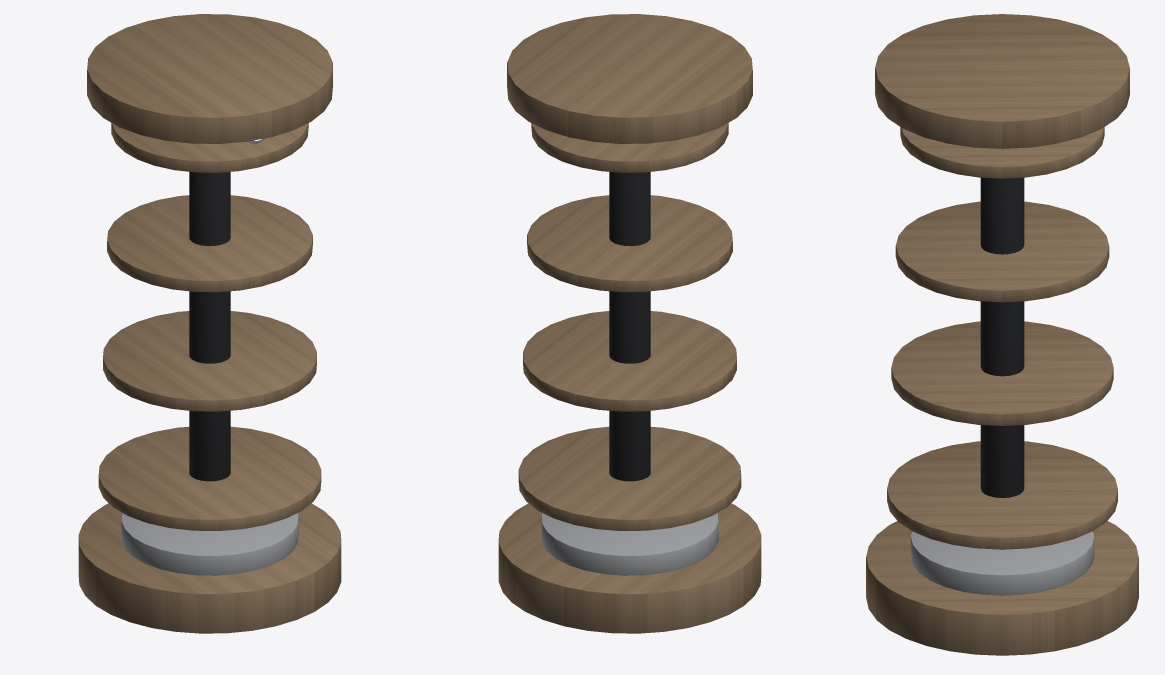
File: pf_display_rotating_display_t2.glb
3 views of the same model, side by side, from view 1: azimuth 30°, elevation 25°; view 2: azimuth 150°, elevation 25°; view 3: azimuth 270°, elevation 25° (orthographic). The views are drawn at different scales.
Parts seen in each view (by area): view 1: Rotor_Canopy, Stationary_Base, Rotor_Deck_01, Rotor_Deck_02, Rotor_Deck_03, Rotor_Column, Turntable_Bearing, Rotor_Deck_04; view 2: Rotor_Canopy, Stationary_Base, Rotor_Deck_01, Rotor_Deck_02, Rotor_Deck_03, Rotor_Column, Turntable_Bearing, Rotor_Deck_04; view 3: Rotor_Canopy, Stationary_Base, Rotor_Deck_01, Rotor_Deck_02, Rotor_Deck_03, Rotor_Column, Turntable_Bearing, Rotor_Deck_04.
Boxes of the visible parts, bbox=[...] form: Rotor_Canopy: bbox=[87, 14, 332, 143]; Stationary_Base: bbox=[78, 503, 341, 633]; Rotor_Deck_01: bbox=[98, 426, 321, 530]; Rotor_Deck_02: bbox=[103, 311, 316, 411]; Rotor_Deck_03: bbox=[107, 195, 312, 292]; Rotor_Column: bbox=[189, 172, 230, 481]; Turntable_Bearing: bbox=[121, 513, 298, 575]; Rotor_Deck_04: bbox=[111, 123, 308, 172]; Rotor_Canopy: bbox=[507, 14, 752, 143]; Stationary_Base: bbox=[498, 503, 761, 633]; Rotor_Deck_01: bbox=[518, 426, 741, 530]; Rotor_Deck_02: bbox=[523, 311, 736, 411]; Rotor_Deck_03: bbox=[527, 195, 732, 292]; Rotor_Column: bbox=[609, 172, 650, 481]; Turntable_Bearing: bbox=[541, 513, 718, 575]; Rotor_Deck_04: bbox=[531, 123, 728, 172]; Rotor_Canopy: bbox=[875, 14, 1129, 148]; Stationary_Base: bbox=[866, 521, 1138, 655]; Rotor_Deck_01: bbox=[887, 441, 1117, 549]; Rotor_Deck_02: bbox=[891, 321, 1113, 425]; Rotor_Deck_03: bbox=[895, 201, 1109, 302]; Rotor_Column: bbox=[980, 177, 1024, 497]; Turntable_Bearing: bbox=[910, 531, 1094, 595]; Rotor_Deck_04: bbox=[900, 127, 1104, 178].
Bounding box in the file's own units: 0.78 × 1.54 × 0.78.
5 materials, 2 textured.
